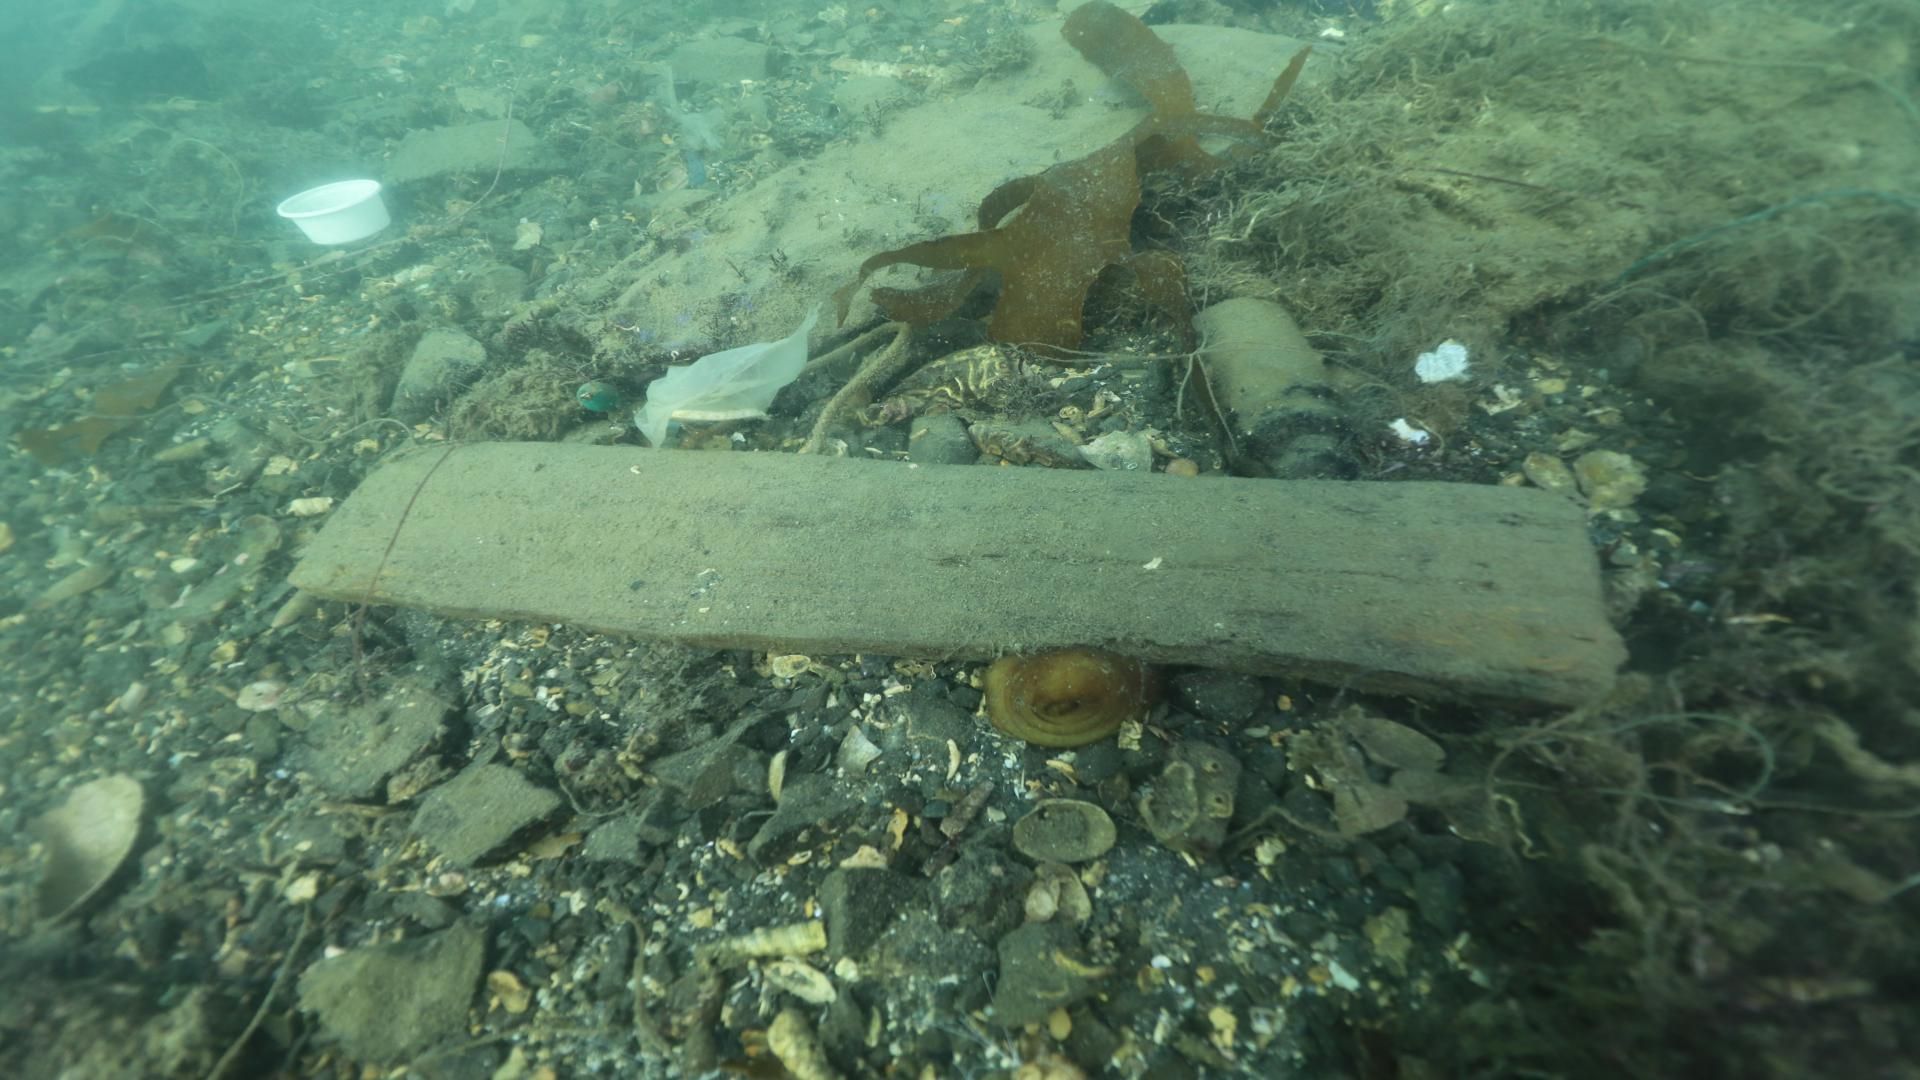wood: (290, 429, 1636, 712)
